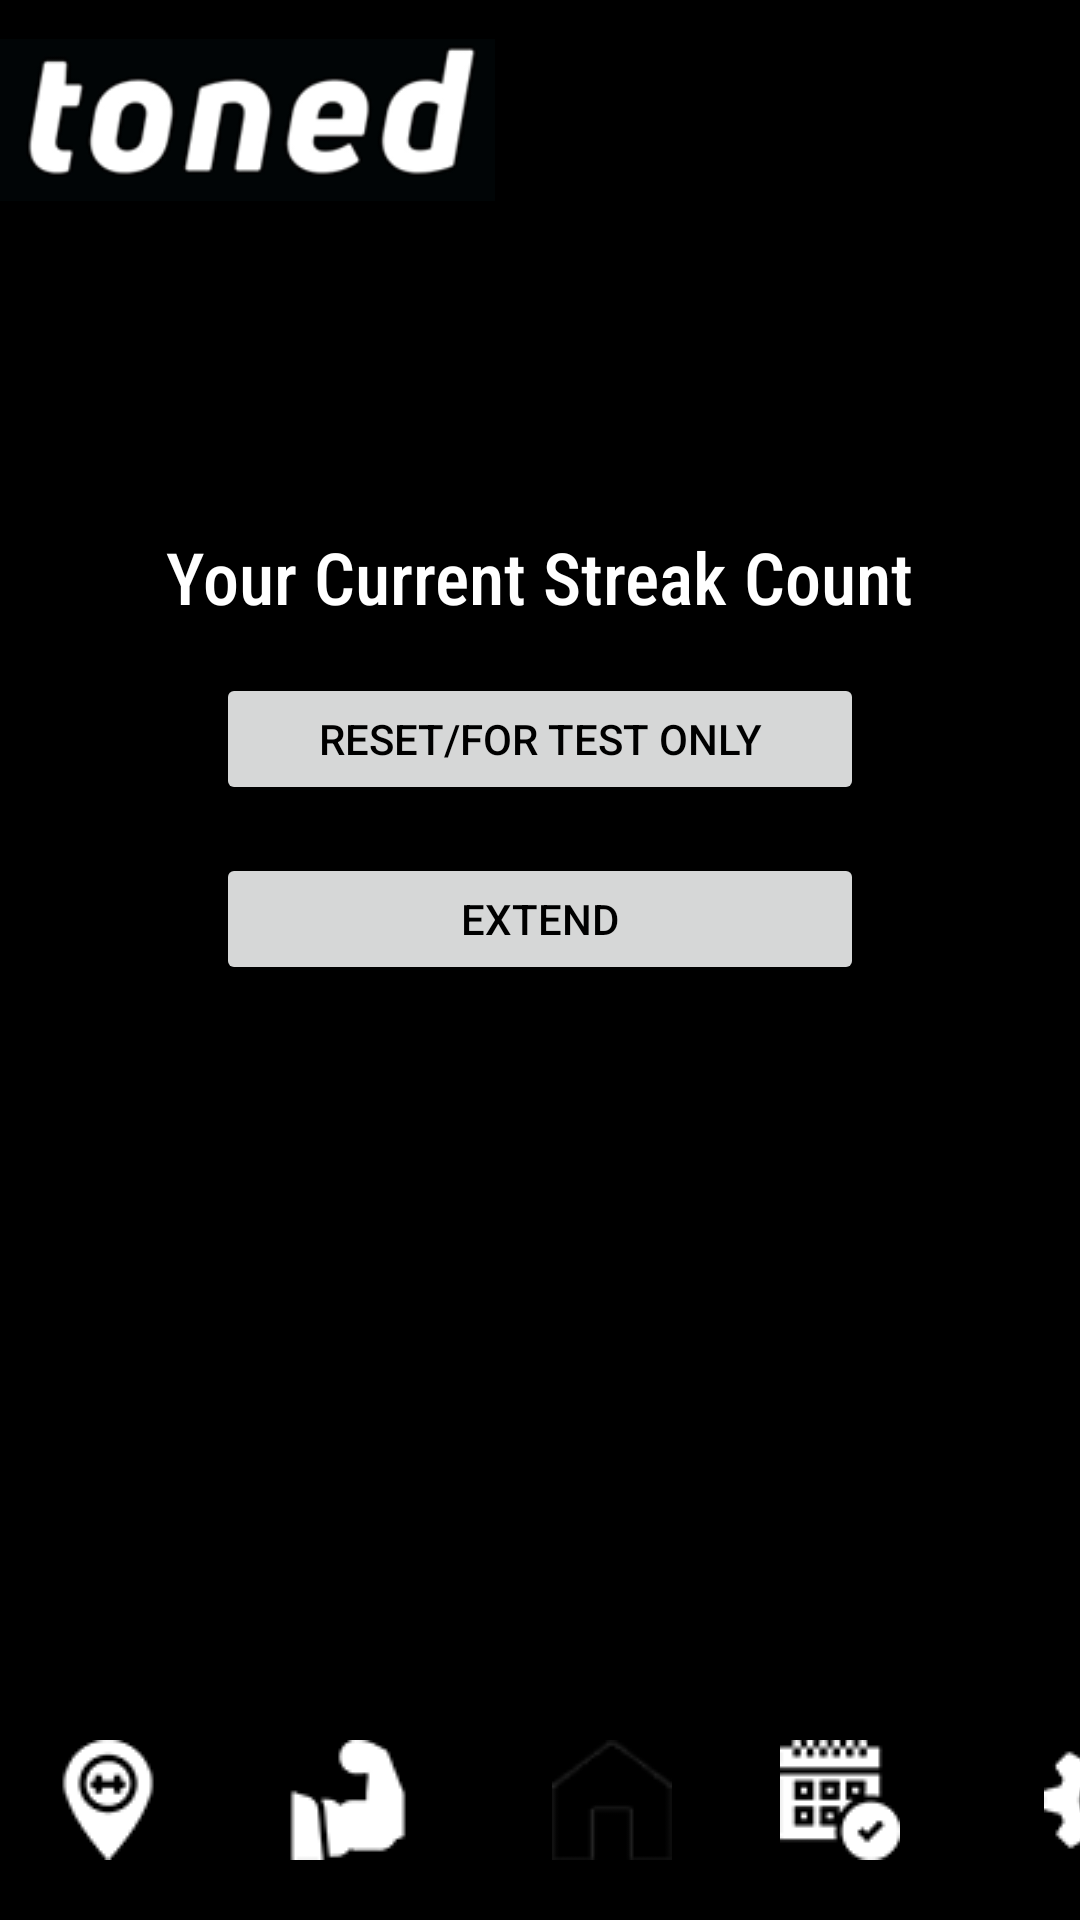

Locate icon controls on the screen. Image size 1080px x 1920px, boxes as (x1, y1, x2, y2).
homeicon: (552, 1744, 672, 1860)
mapicon: (62, 1740, 154, 1860)
streakicon: (780, 1740, 900, 1860)
workouticon: (290, 1740, 406, 1860)
